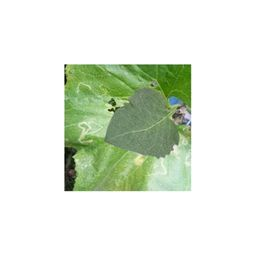liriomyza: (77, 118, 104, 146), (152, 156, 169, 177), (75, 79, 91, 94), (133, 152, 146, 166)
